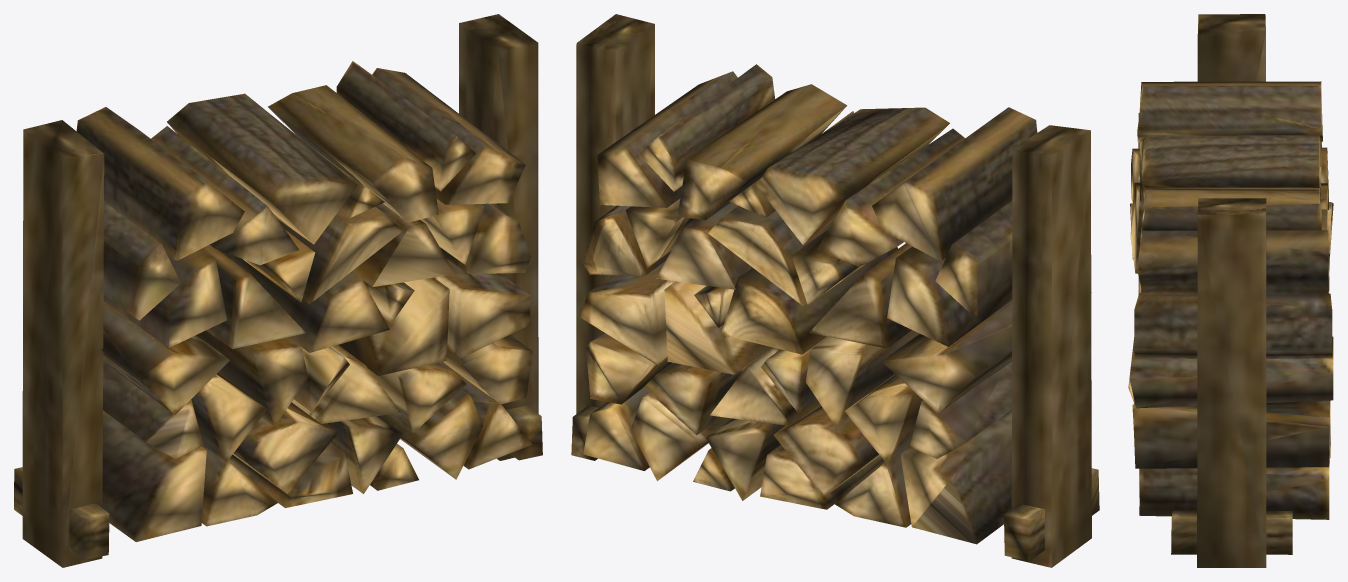
The model's file is prop-woodpile.glb.
3 renders of one model, left to right at view 1: azimuth 30°, elevation 25°; view 2: azimuth 150°, elevation 25°; view 3: azimuth 270°, elevation 25°, orthographic. The views are drawn at different scales.
Size of the model in its own units: 0.958 by 0.7881 by 0.4146.
1 material, 1 textured.
